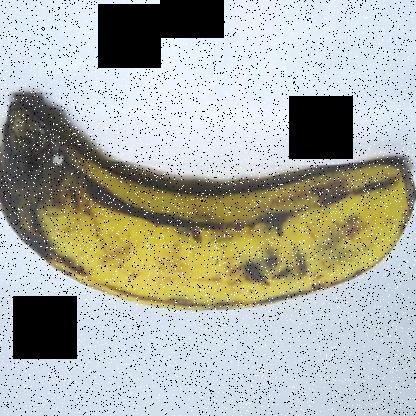overripe: (1, 82, 415, 329)
rotten: (1, 76, 112, 272)
